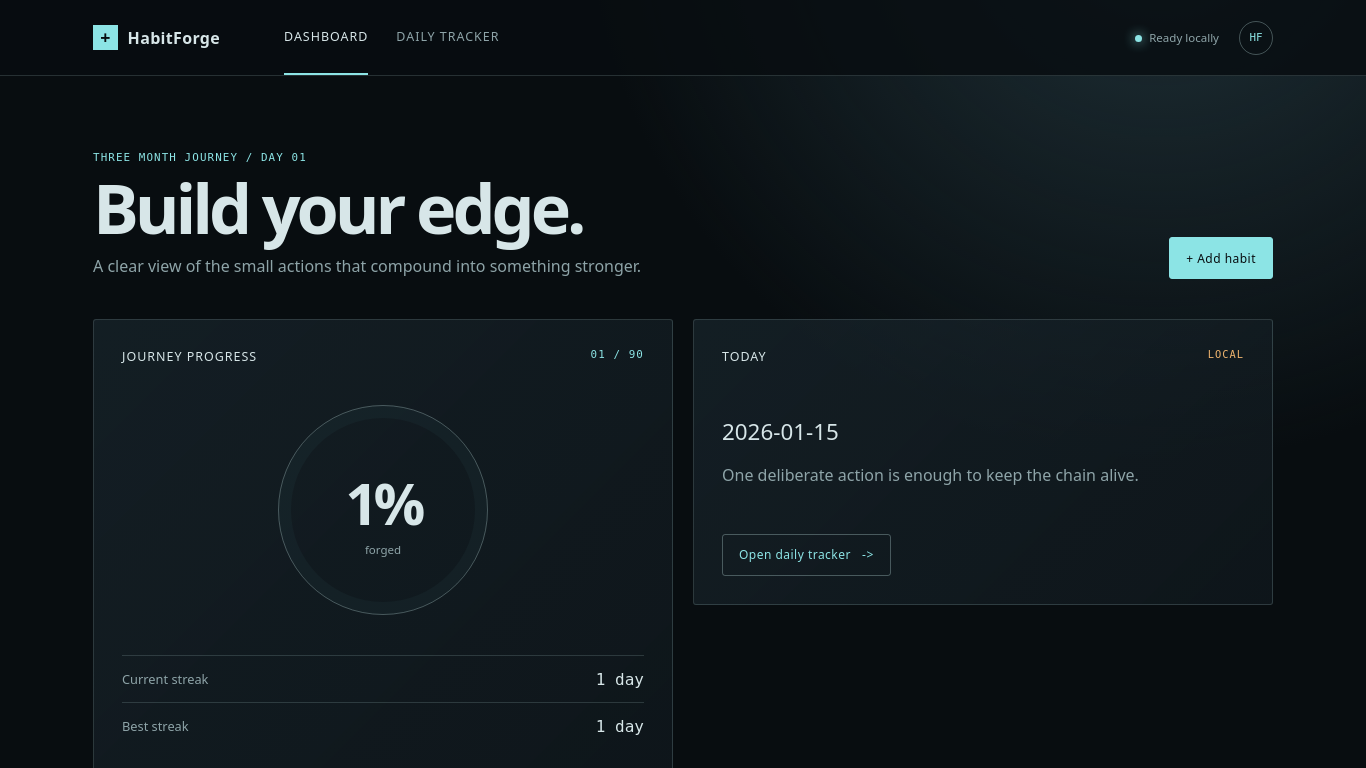
Test case: HabitForge shell › renders branded dashboard and navigates to the shared tracker route
Expected: the heading "Build your edge." is shown, [93, 175, 641, 242]
Expected: the text "HabitForge" is shown, [128, 26, 220, 48]
Click the link "Daily tracker".
click(448, 36)  # box [396, 28, 500, 45]
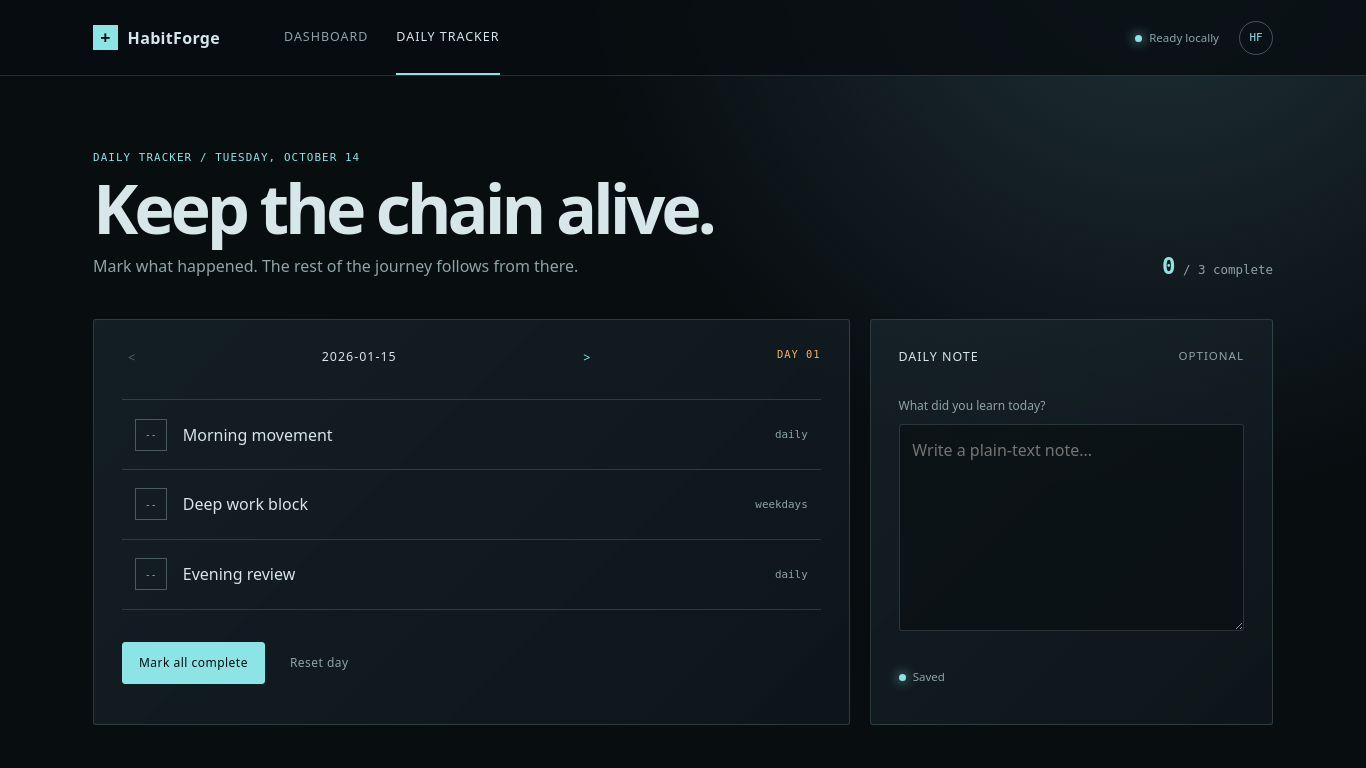
Expected: the heading "Keep the chain alive." is shown, [93, 175, 713, 242]
Now the button "Mark all complete" is shown
Click the button "Mark all complete".
click(193, 663)  # box [122, 642, 265, 684]
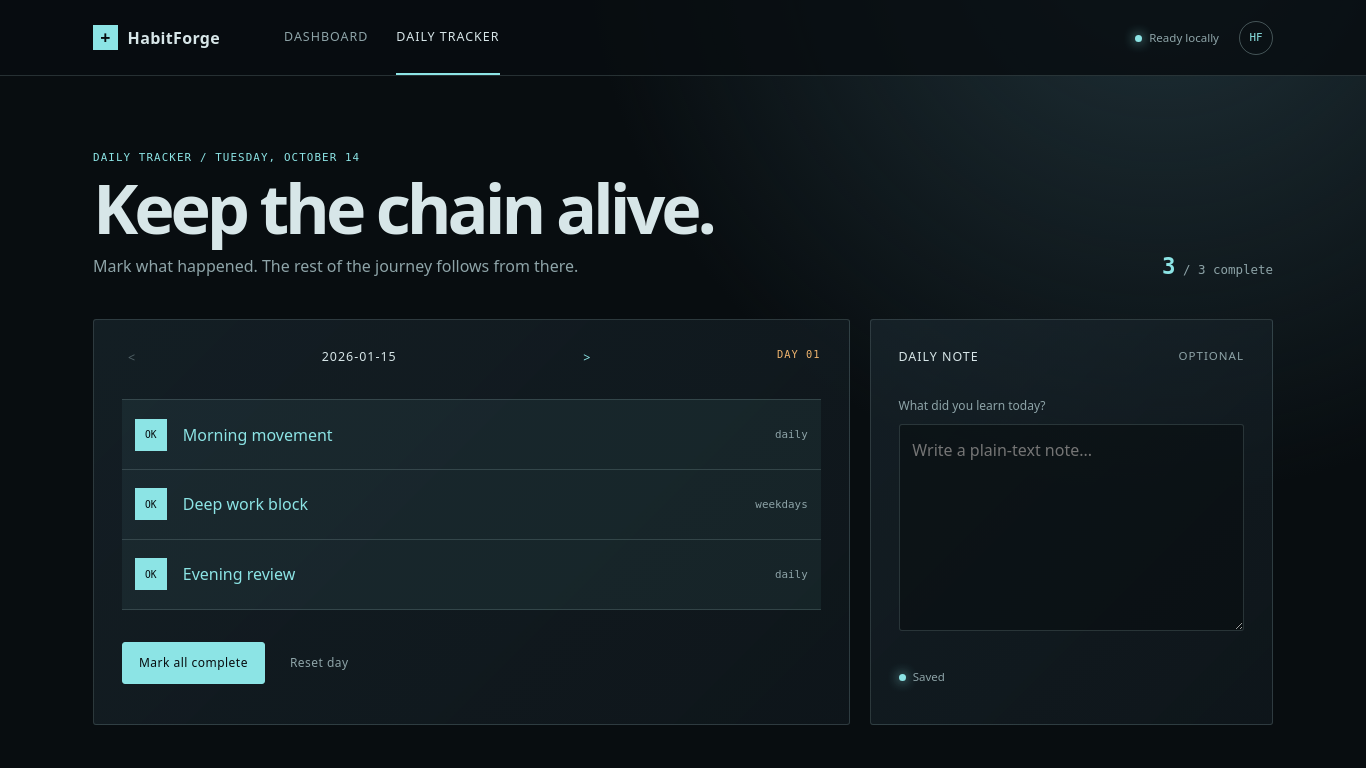
Now the element named "3 of 3 complete" is shown, box [1162, 253, 1273, 279]
